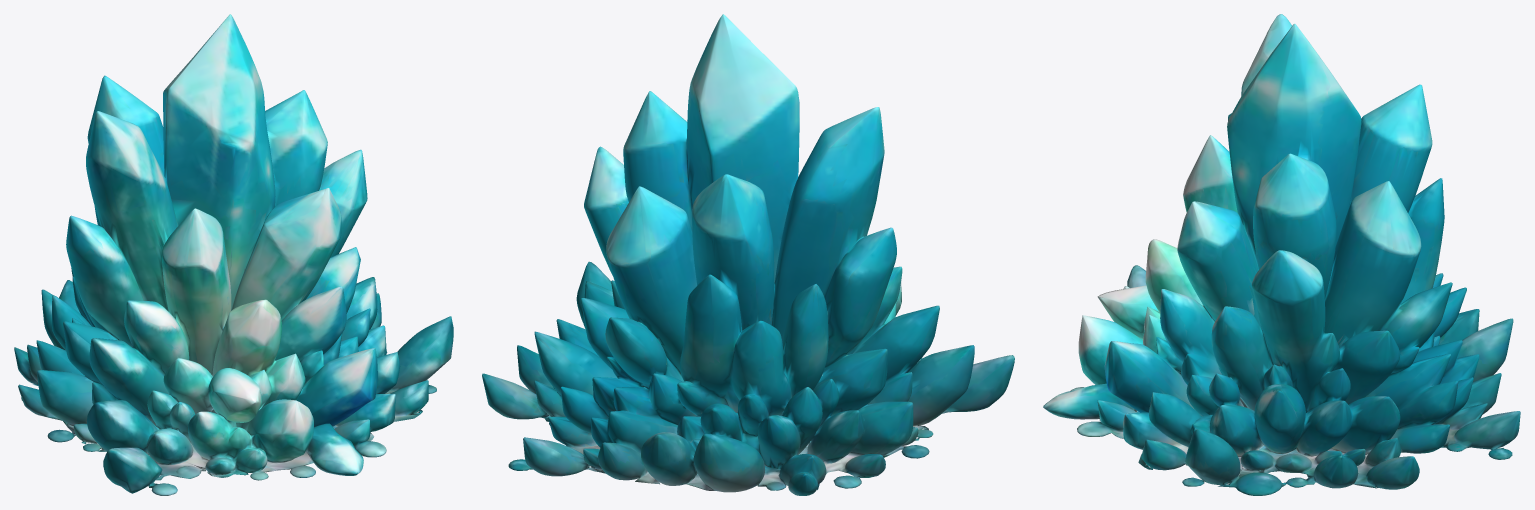
File: essence.glb
3 views of the same model, side by side, from view 1: azimuth 30°, elevation 25°; view 2: azimuth 150°, elevation 25°; view 3: azimuth 270°, elevation 25° (orthographic). The views are drawn at different scales.
Visible parts, largest first — view 1: node_0; view 2: node_0; view 3: node_0.
Part boxes in pixels (x1=…): node_0: x1=14, y1=14, x2=453, y2=495; node_0: x1=482, y1=14, x2=1014, y2=495; node_0: x1=1043, y1=14, x2=1520, y2=495.
Bounding box in the file's own units: 0.8001 × 0.768 × 0.8554.
Materials: 1 (1 with a texture image).
